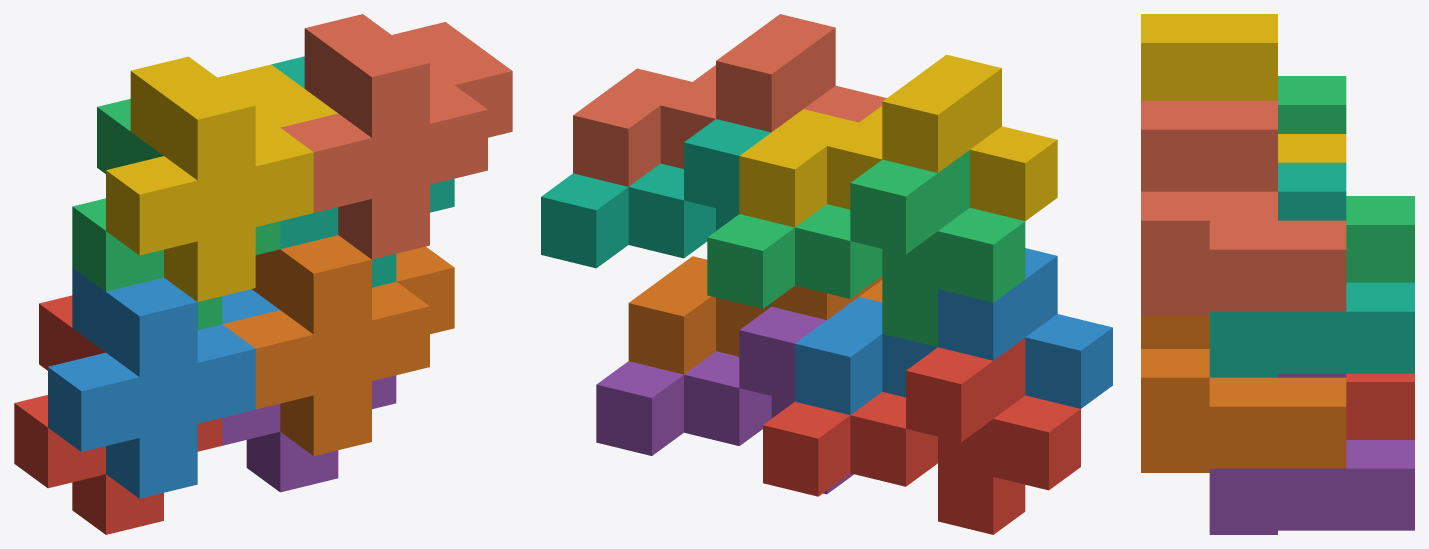
Rendered from tiling.obj.
3 views of the same model, side by side, from view 1: azimuth 30°, elevation 25°; view 2: azimuth 150°, elevation 25°; view 3: azimuth 270°, elevation 25° (orthographic). The views are drawn at different scales.
Visible parts, largest first — view 1: copy_1_domain_8, copy_1_domain_4, copy_1_domain_2, copy_1_domain_6, copy_1_domain_1, copy_1_domain_3, copy_1_domain_5, copy_1_domain_7; view 2: copy_1_domain_1, copy_1_domain_3, copy_1_domain_4, copy_1_domain_2, copy_1_domain_8, copy_1_domain_5, copy_1_domain_7, copy_1_domain_6; view 3: copy_1_domain_8, copy_1_domain_6, copy_1_domain_7, copy_1_domain_5, copy_1_domain_4, copy_1_domain_3, copy_1_domain_1.
Boxes of the visible parts, x1,y1,x2,y2 form: copy_1_domain_8: (280, 14, 512, 259); copy_1_domain_4: (106, 56, 337, 301); copy_1_domain_2: (48, 267, 279, 498); copy_1_domain_6: (222, 235, 454, 455); copy_1_domain_1: (14, 295, 222, 534); copy_1_domain_3: (72, 99, 280, 329); copy_1_domain_5: (222, 375, 396, 492); copy_1_domain_7: (271, 56, 454, 287); copy_1_domain_1: (763, 338, 1080, 534); copy_1_domain_3: (707, 150, 1025, 347); copy_1_domain_4: (739, 54, 1057, 227); copy_1_domain_2: (795, 248, 1112, 415); copy_1_domain_8: (573, 14, 886, 186); copy_1_domain_5: (596, 306, 853, 494); copy_1_domain_7: (541, 119, 771, 306); copy_1_domain_6: (628, 256, 882, 374); copy_1_domain_8: (1141, 100, 1346, 315); copy_1_domain_6: (1141, 315, 1346, 472); copy_1_domain_7: (1209, 162, 1414, 377); copy_1_domain_5: (1209, 373, 1414, 534); copy_1_domain_4: (1141, 14, 1346, 162); copy_1_domain_3: (1278, 76, 1414, 282); copy_1_domain_1: (1346, 373, 1414, 439).
Bounding box in the file's own units: 8 × 7 × 4.
